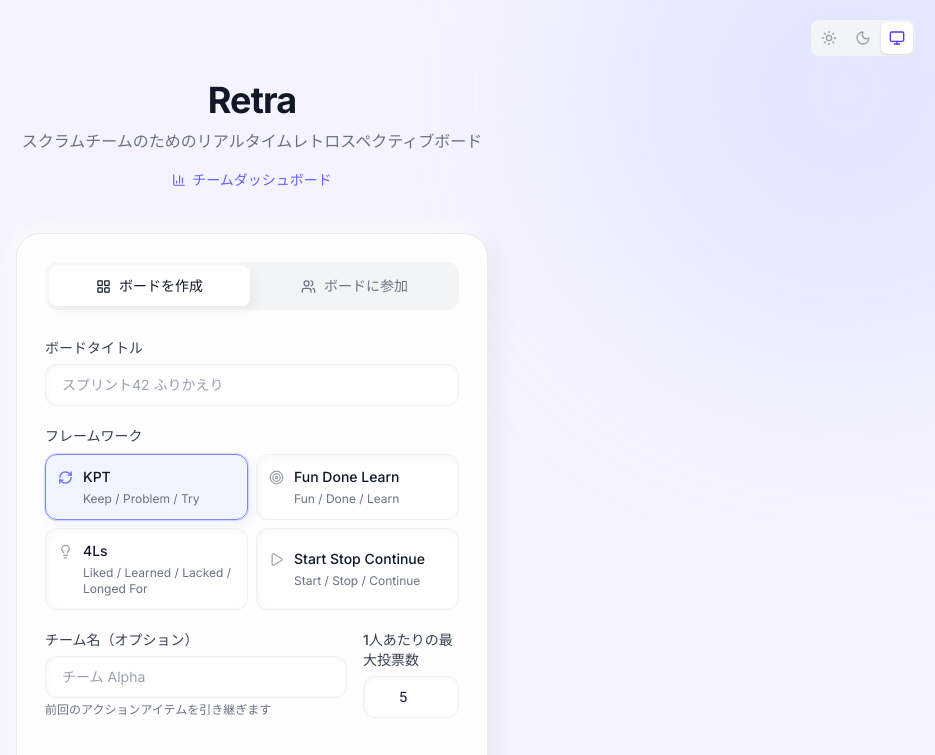
Test: HomePage › join mode shows slug input
Click the button "ボードに参加". click: (354, 286)
box: [254,266,455,306]
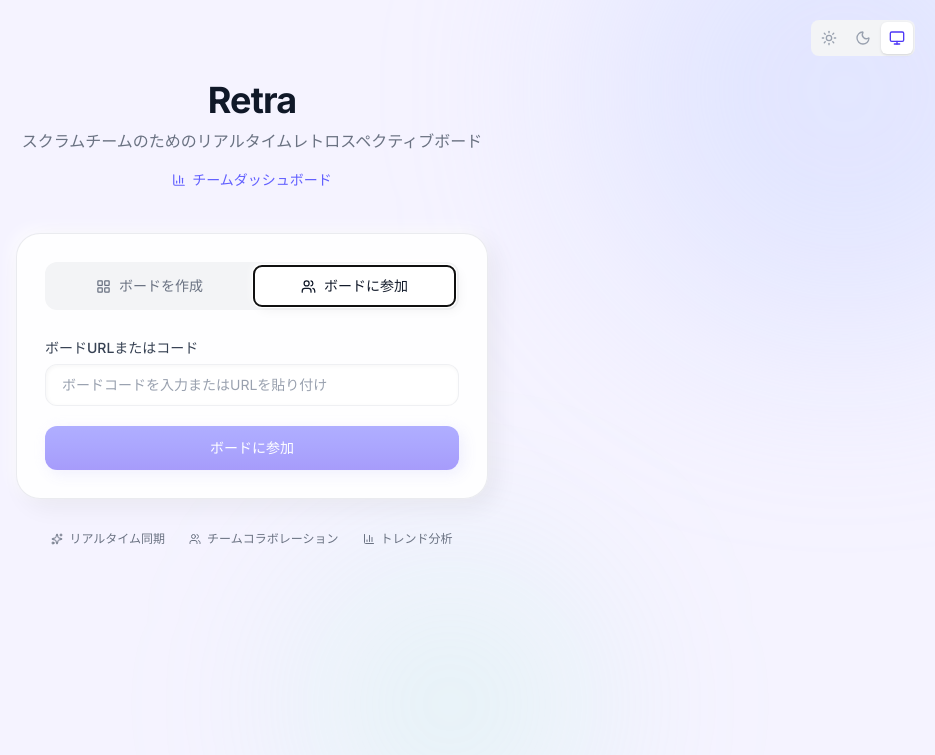
Expected: the text "ボードURLまたはコード" is shown, [45,339,198,356]
Expected: the field with placeholder "ボードコードを入力またはURLを貼り付け" is shown, [45,364,459,406]
